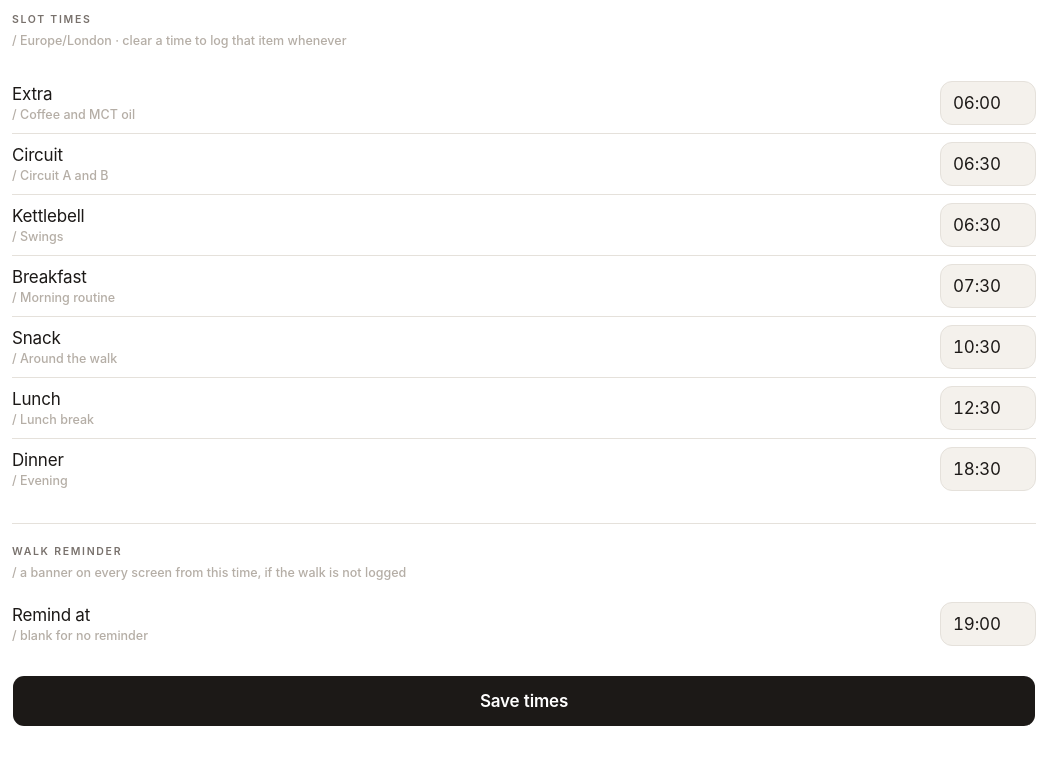
a refused submission › marks the field invalid and points the description at the message
Click the button "Save times" at (524, 701), box top-left (12, 675), bottom-right (1036, 727)
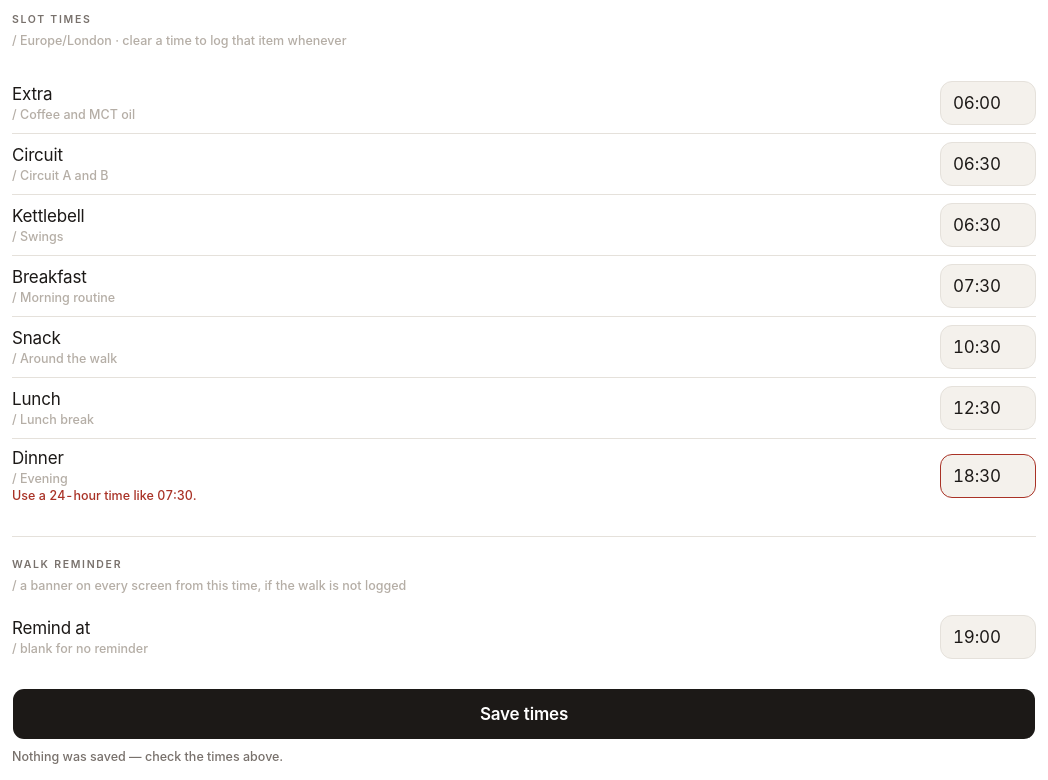
Expected: the text "Use a 24-hour time like 07:30." is shown, top-left (12, 487), bottom-right (196, 504)
